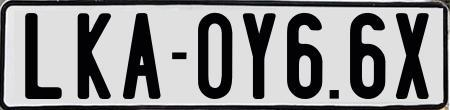0: (197, 11, 233, 100)
6: (285, 11, 323, 97), (350, 12, 387, 98)
A: (121, 11, 165, 101)
K: (75, 12, 111, 101)
L: (25, 12, 62, 103)
X: (396, 10, 430, 98)
Y: (240, 10, 278, 99)
